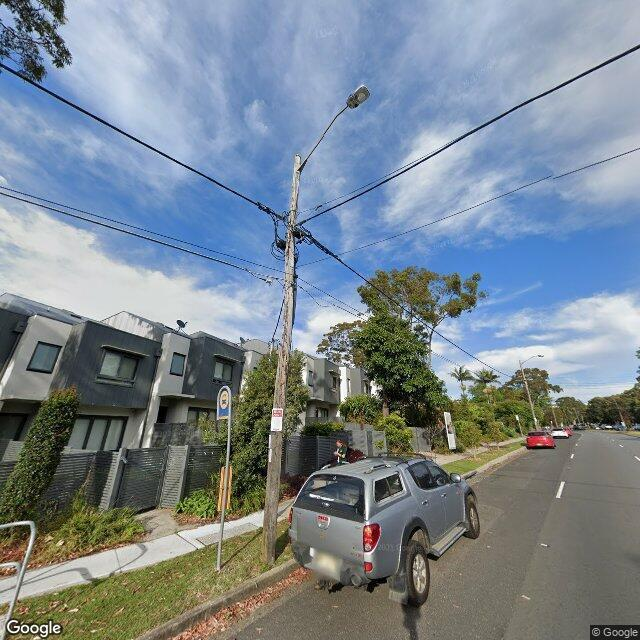streetlight: (298, 85, 371, 175), (522, 354, 544, 366)
timber-pole: (260, 155, 302, 565), (520, 359, 538, 432)
